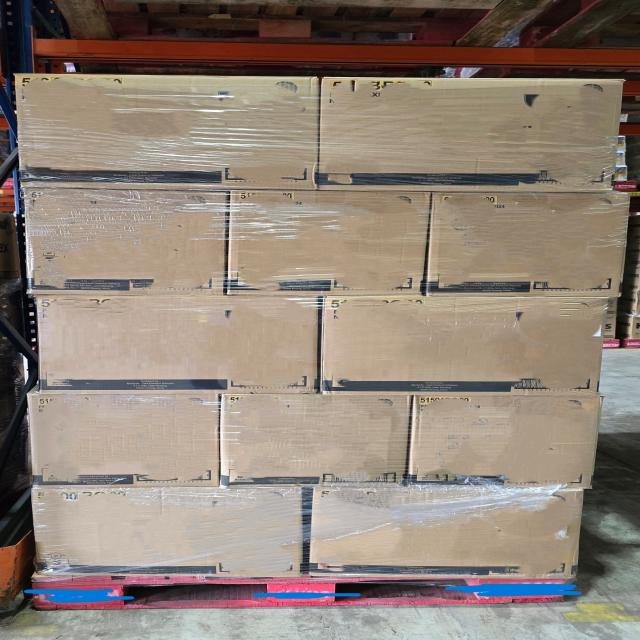cardboxes: (321, 73, 631, 192), (12, 74, 321, 192), (32, 298, 322, 392), (321, 299, 606, 392), (28, 488, 308, 578), (314, 488, 582, 578), (20, 189, 227, 295), (228, 192, 428, 296), (432, 192, 629, 294), (28, 391, 220, 489), (414, 394, 606, 489), (220, 395, 408, 482)
